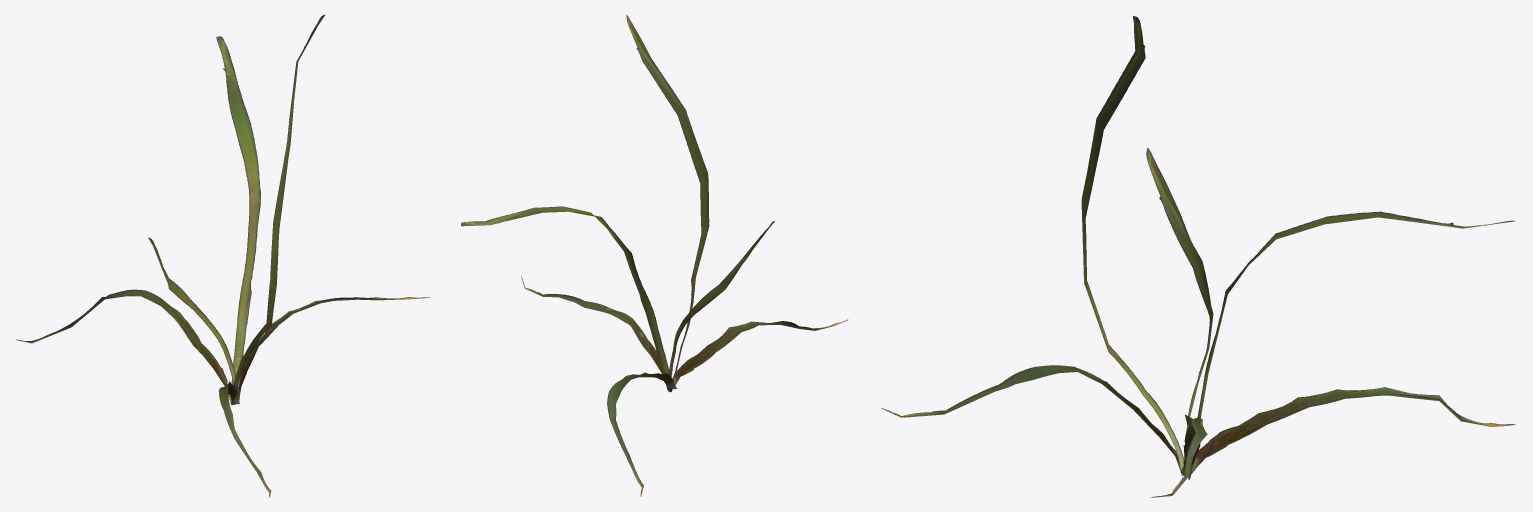
Rendered from flower_empodium_05.glb.
The picture shows the model from 3 angles, left to right: view 1: azimuth 30°, elevation 25°; view 2: azimuth 150°, elevation 25°; view 3: azimuth 270°, elevation 25°; orthographic projection. The views are drawn at different scales.
Visible parts, largest first — view 1: flower_empodium; view 2: flower_empodium; view 3: flower_empodium.
Part boxes in pixels (x1=…): flower_empodium: x1=16, y1=14, x2=429, y2=497; flower_empodium: x1=461, y1=15, x2=848, y2=496; flower_empodium: x1=881, y1=16, x2=1515, y2=497.
Size of the model in its own units: 0.1112 by 0.1469 by 0.166.
Materials: 1 (1 with a texture image).
